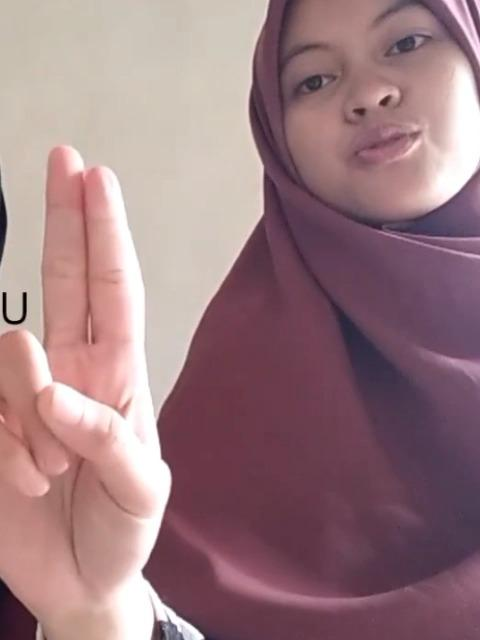U: (3, 138, 177, 640)
